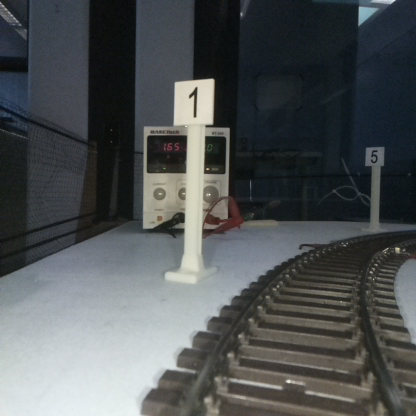white-info-1: (175, 81, 213, 277)
white-info-5: (365, 146, 384, 230)
